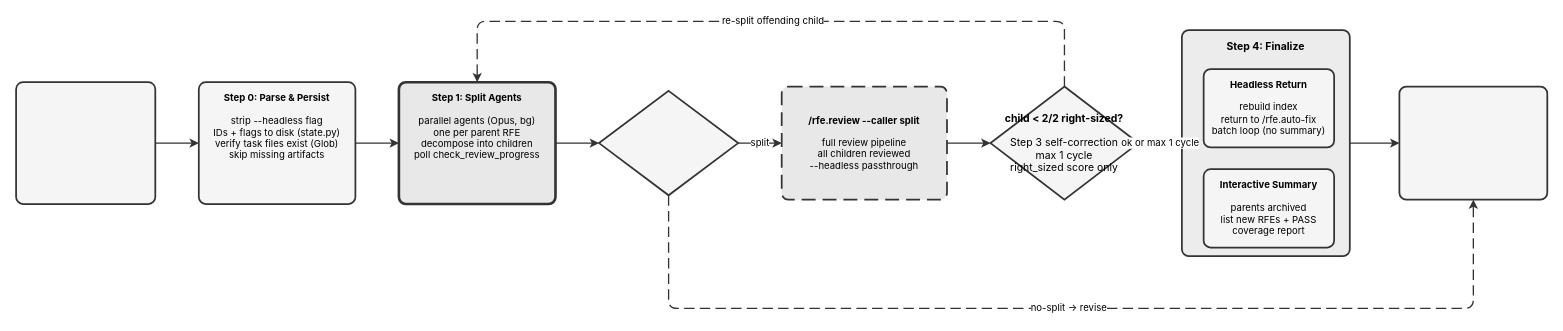
The diagram is 1563 pixels wide and 331 high, and some of its shapes have lost their labels. The centre of each missing label's shape, as x and y in pixels:
/rfe.split RHAIRFE-NNNN / RFE-NNN IDs one or more parents --headless flag: point 85,142
action: split? collect_children.py read split-status.yaml: point 668,143
artifacts/rfe-tasks/ child RFEs created parent status=Archived next: /rfe.submit: point 1473,142
